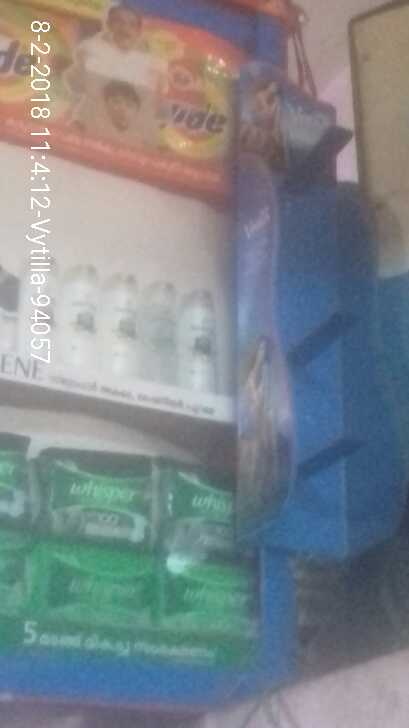B: (260, 353, 306, 405)
beauty: (59, 252, 108, 378), (176, 280, 227, 392), (139, 277, 186, 378), (103, 266, 143, 381)
home: (159, 39, 236, 170), (1, 10, 73, 120)
pharmacy: (36, 456, 151, 545), (43, 551, 154, 624), (156, 558, 255, 638), (163, 460, 242, 559)
